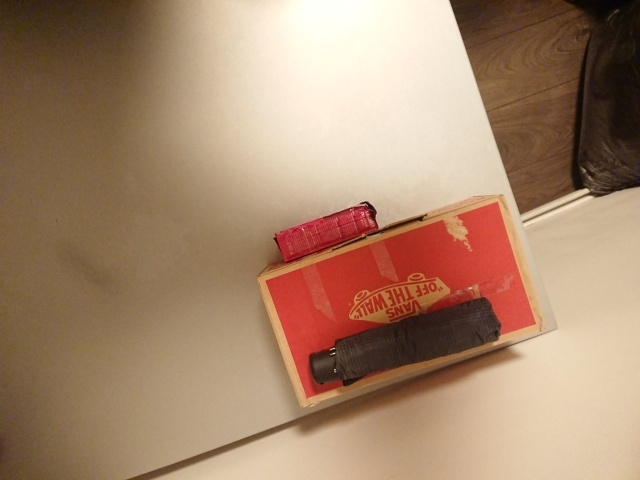Barcaffe Classic Original 225g: (271, 199, 382, 267)
